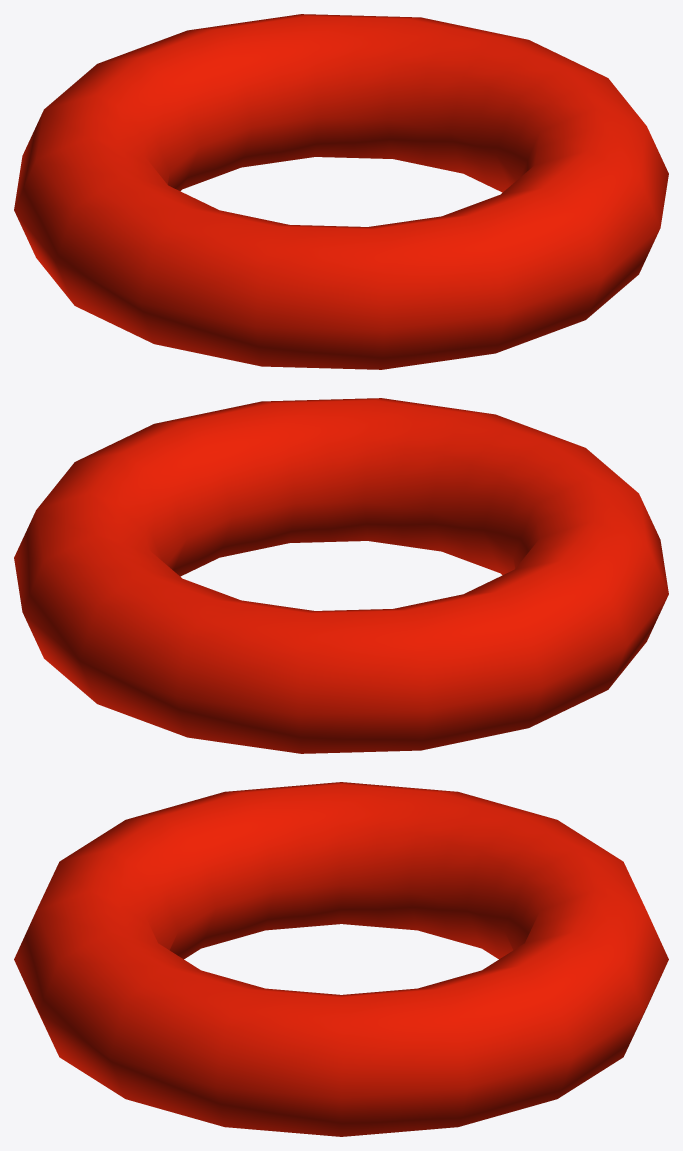
Rendered from supertoroid.glb.
The picture shows the model from 3 angles, top to bottom: view 1: azimuth 30°, elevation 25°; view 2: azimuth 150°, elevation 25°; view 3: azimuth 270°, elevation 25°; orthographic projection.
Visible parts, largest first — view 1: SuperToroid; view 2: SuperToroid; view 3: SuperToroid.
Boxes of the visible parts, x1,y1,x2,y2 form: SuperToroid: (14,14,668,369); SuperToroid: (14,398,668,753); SuperToroid: (14,782,668,1136).
Bounding box in the file's own units: 2.6 × 0.6 × 2.6.
